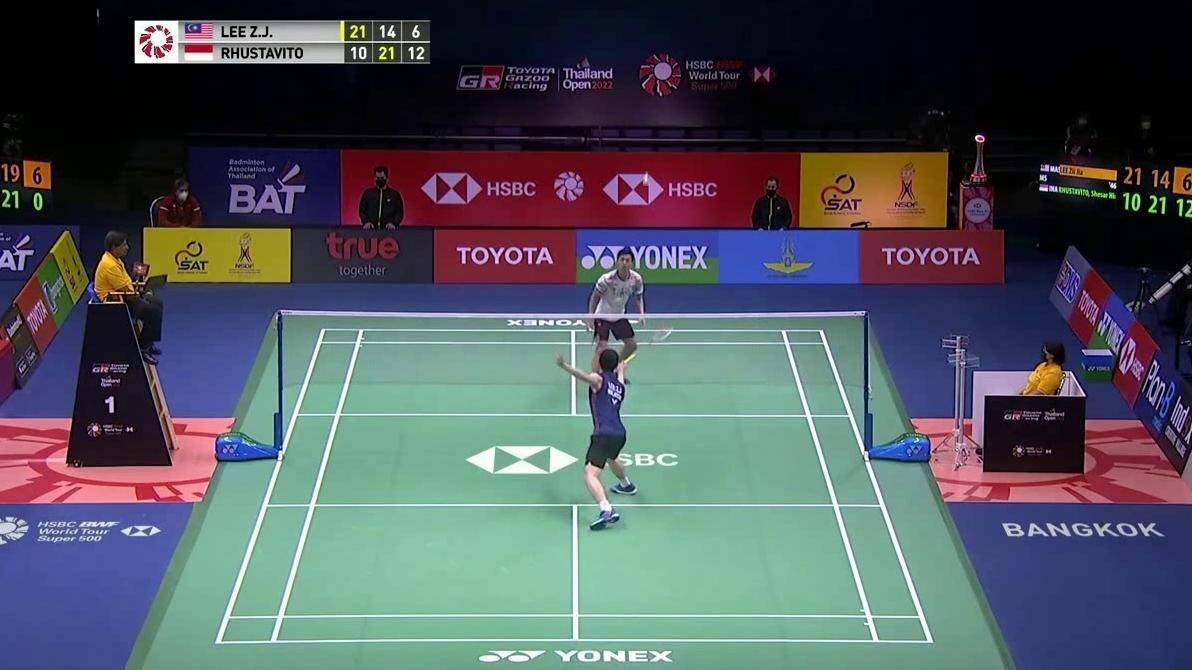racket: (621, 323, 675, 366), (586, 326, 601, 354)
shuttle: (641, 171, 653, 187)
